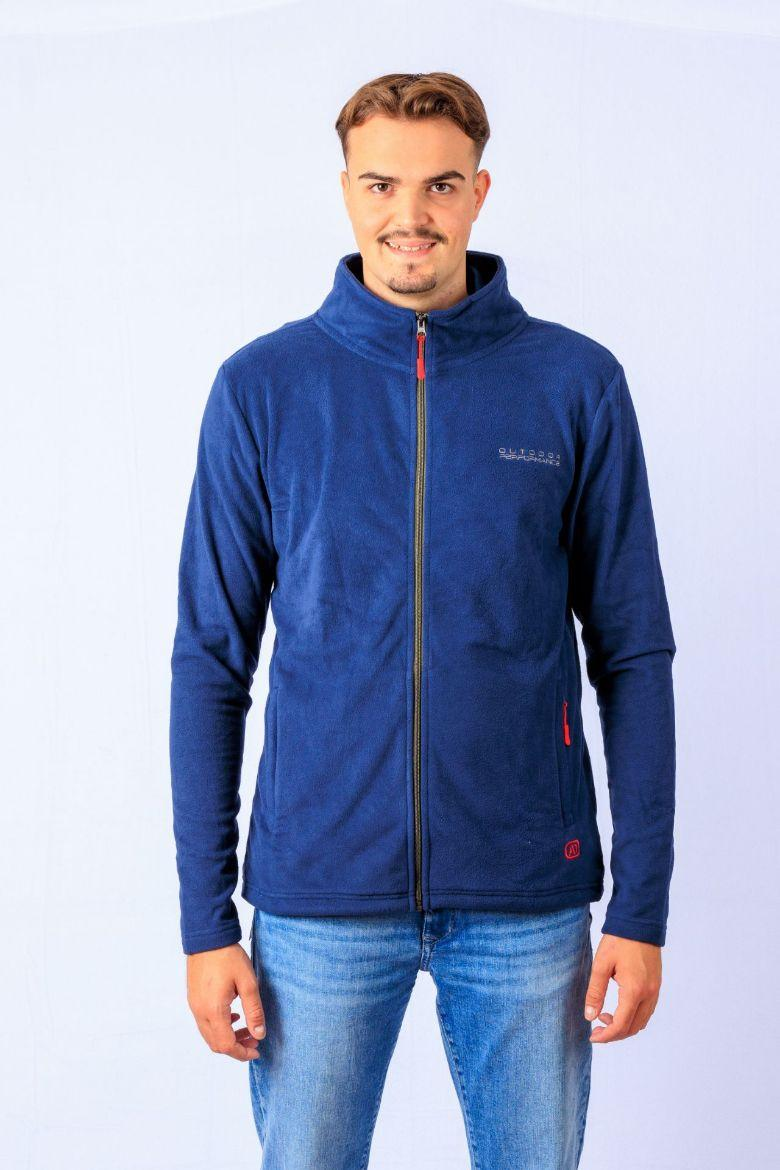jacket: (163, 246, 686, 960)
trousers: (237, 899, 596, 1170)
